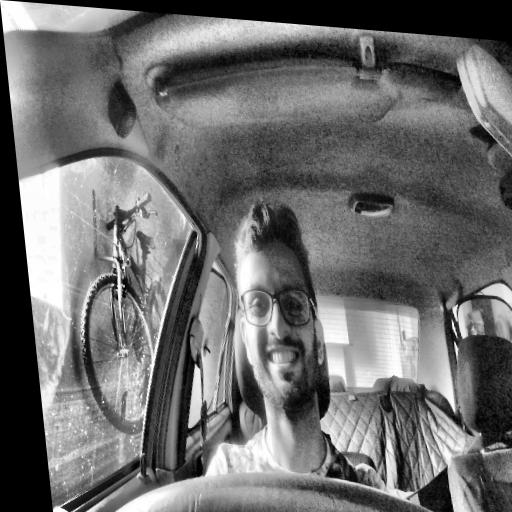awake: (226, 198, 333, 420)
